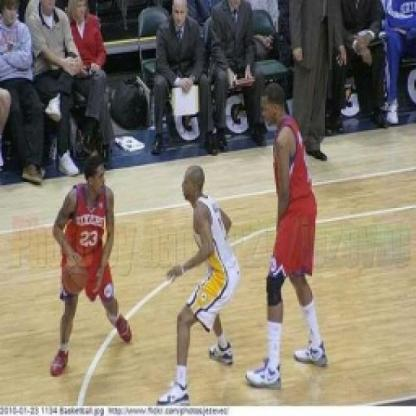basketball: (62, 254, 86, 297)
